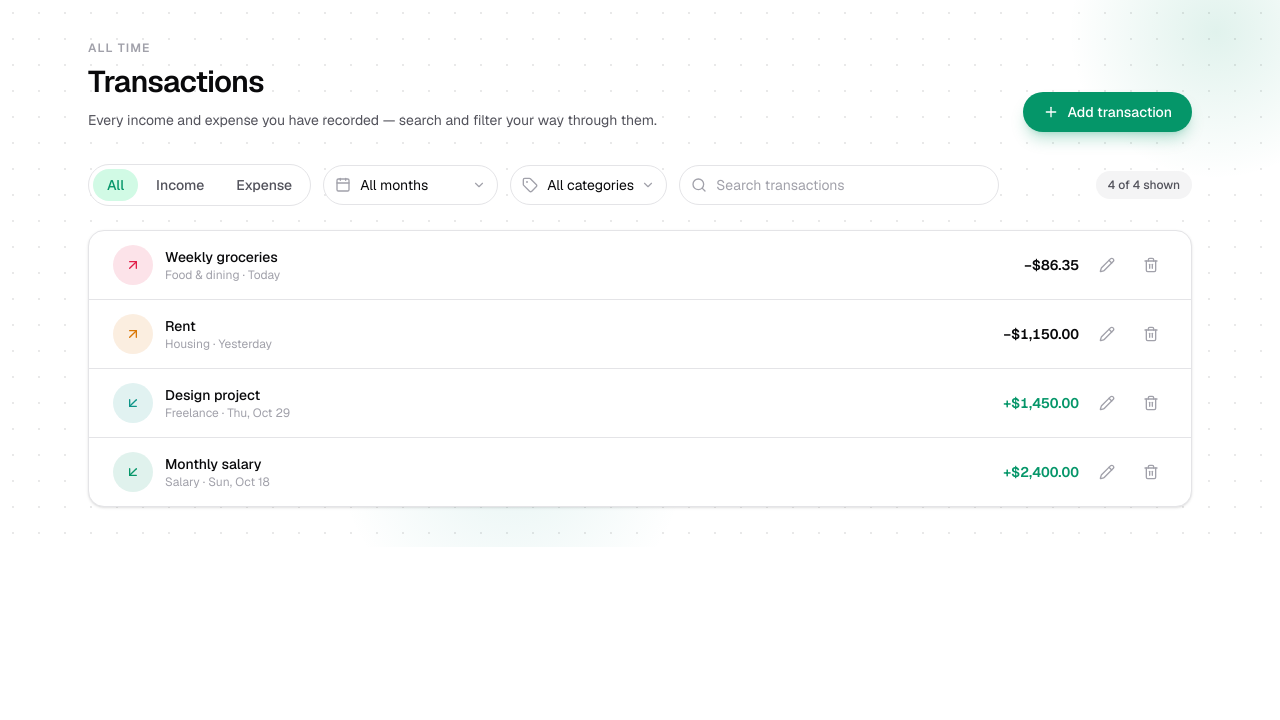
Scenario: TransactionsView › saves a correction to the edited transaction and reloads the list
Click the button named "Edit Rent". click: point(1107, 334)
box: [1091,318,1123,350]
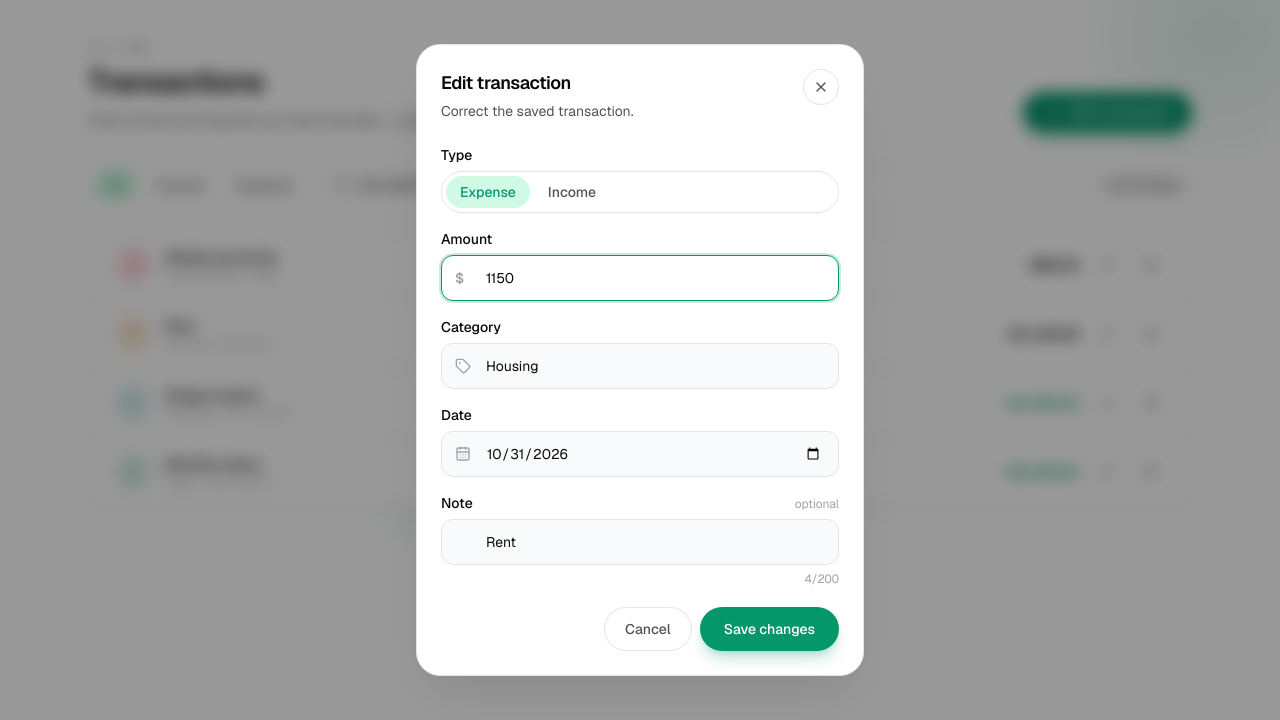
Replace the text in the field labelled "Amount" with "1250". click: point(640, 278)
box: [441,255,839,301]
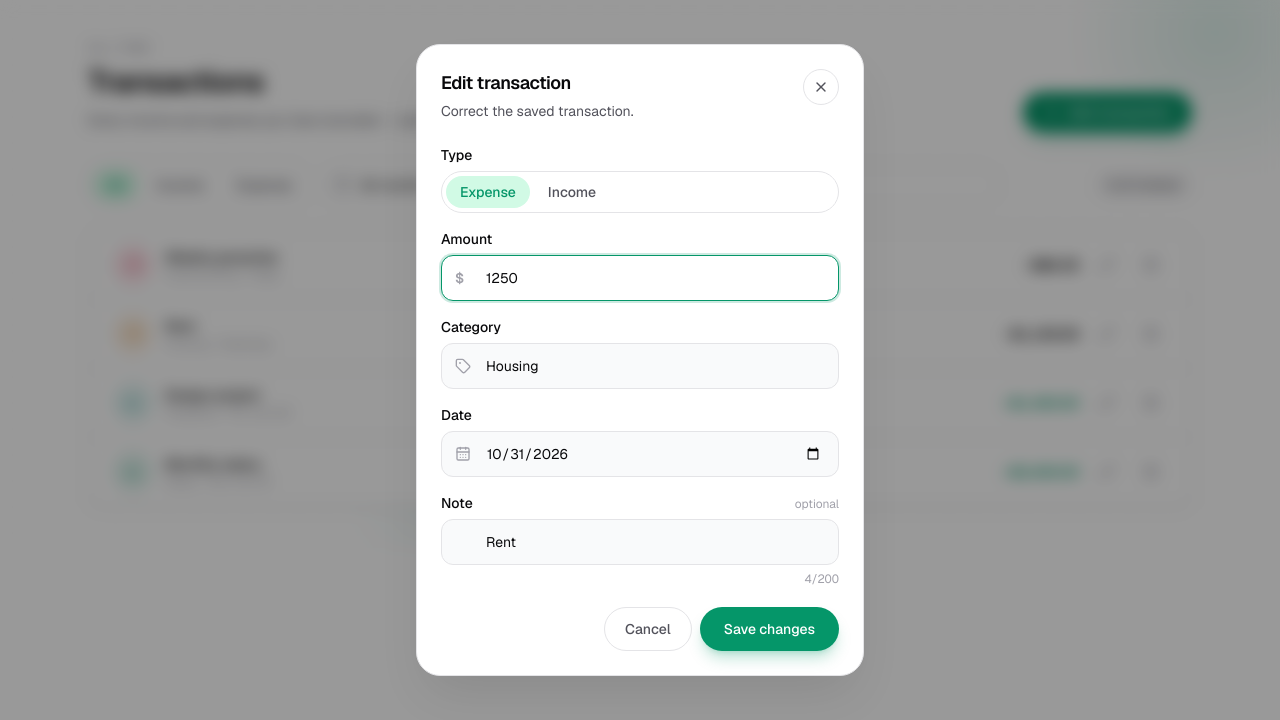
Replace the text in the field labelled "Note" with "Rent and utilities". click: point(640, 542)
box: [441,519,839,565]
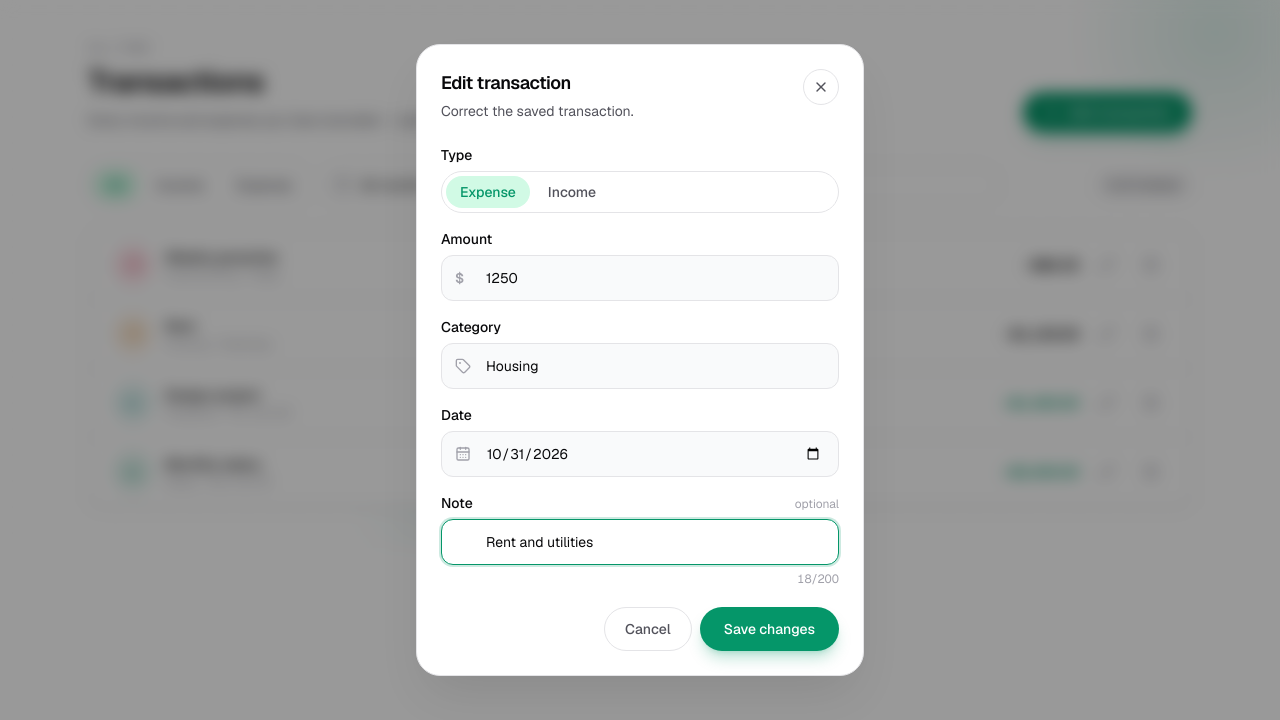
Click the button "Save changes". click: point(769, 629)
box: [700,607,839,651]
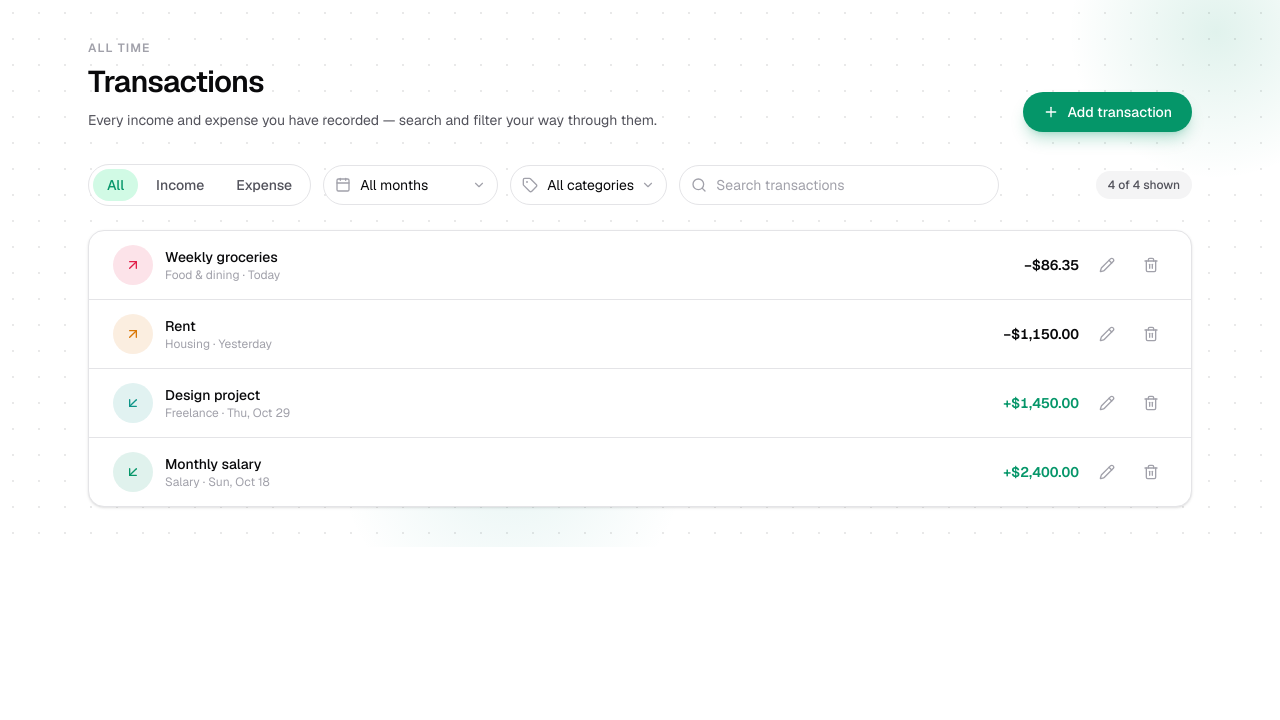
Check: the dialog is gone
